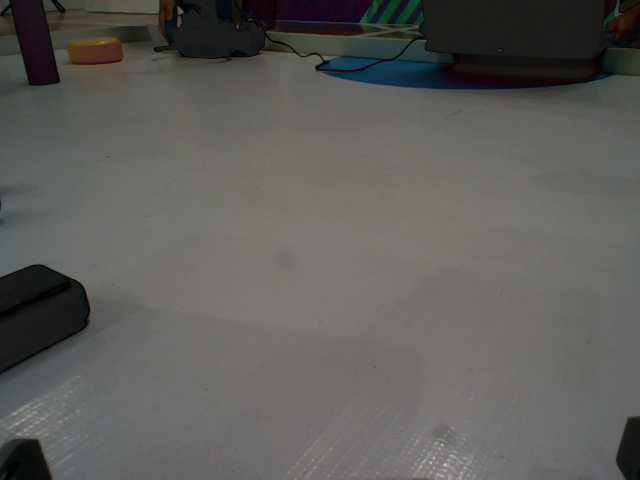black: (1, 257, 108, 386)
yellow: (68, 34, 125, 78)
zhuzi: (1, 1, 68, 95)
